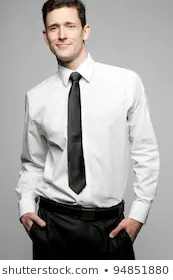F_shirt: (16, 59, 158, 225)
F_tie: (64, 72, 85, 194)
